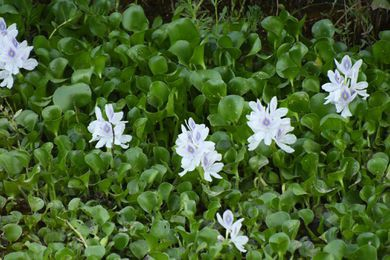water_hyacinth: (0, 149, 172, 260)
